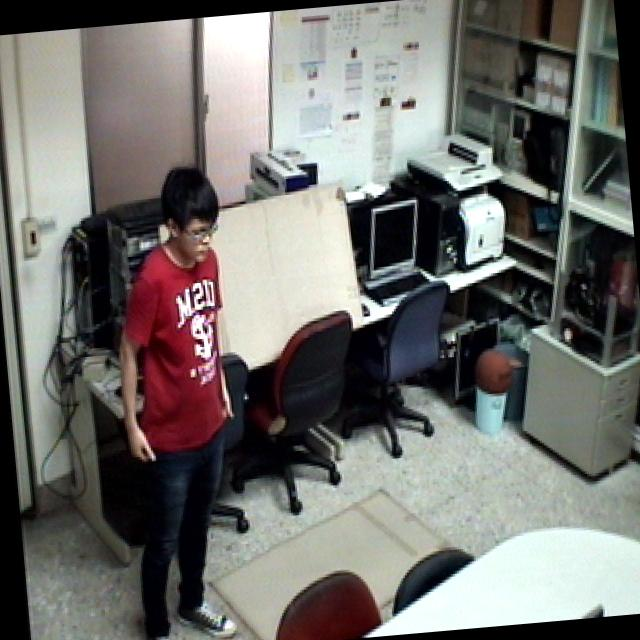stand: (85, 153, 279, 640)
